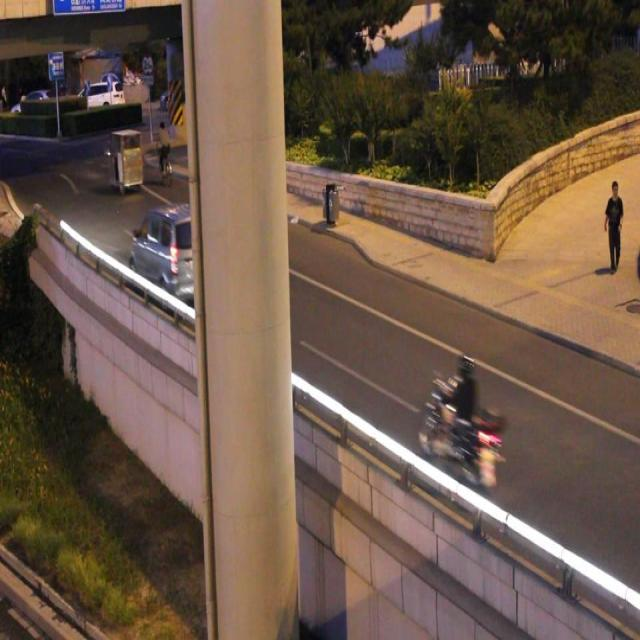car: (130, 201, 208, 300)
